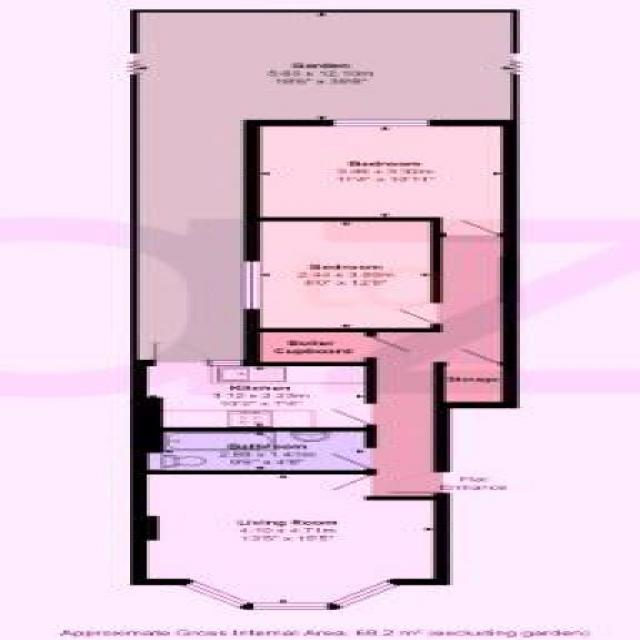DOOR: (149, 340, 214, 366), (325, 402, 378, 426), (324, 474, 379, 497), (325, 446, 377, 470), (395, 301, 444, 325), (441, 218, 502, 237)
ROOM: (128, 470, 452, 611), (243, 119, 519, 238), (242, 216, 445, 333), (128, 341, 378, 432)
WINDOW: (179, 579, 405, 611), (241, 260, 264, 311), (329, 119, 431, 127)
